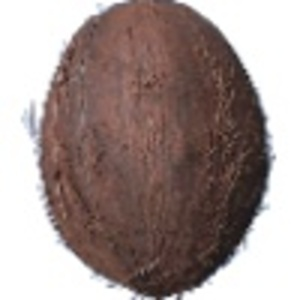coco: (23, 1, 276, 300)
